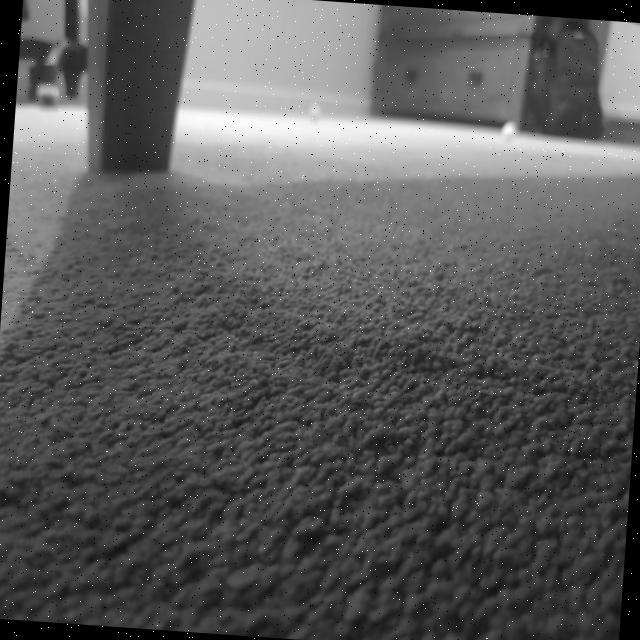ping-pong-ball: (496, 116, 518, 145), (304, 100, 322, 124)
